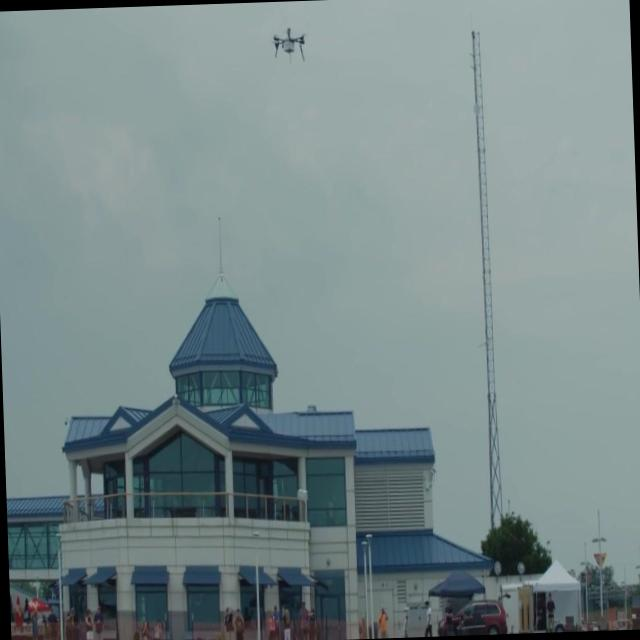drone: (270, 22, 306, 68)
